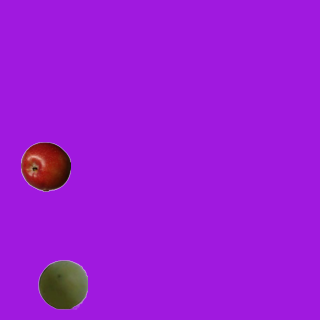Apple Braeburn: (20, 141, 70, 191)
Grape White 4: (37, 259, 87, 309)
